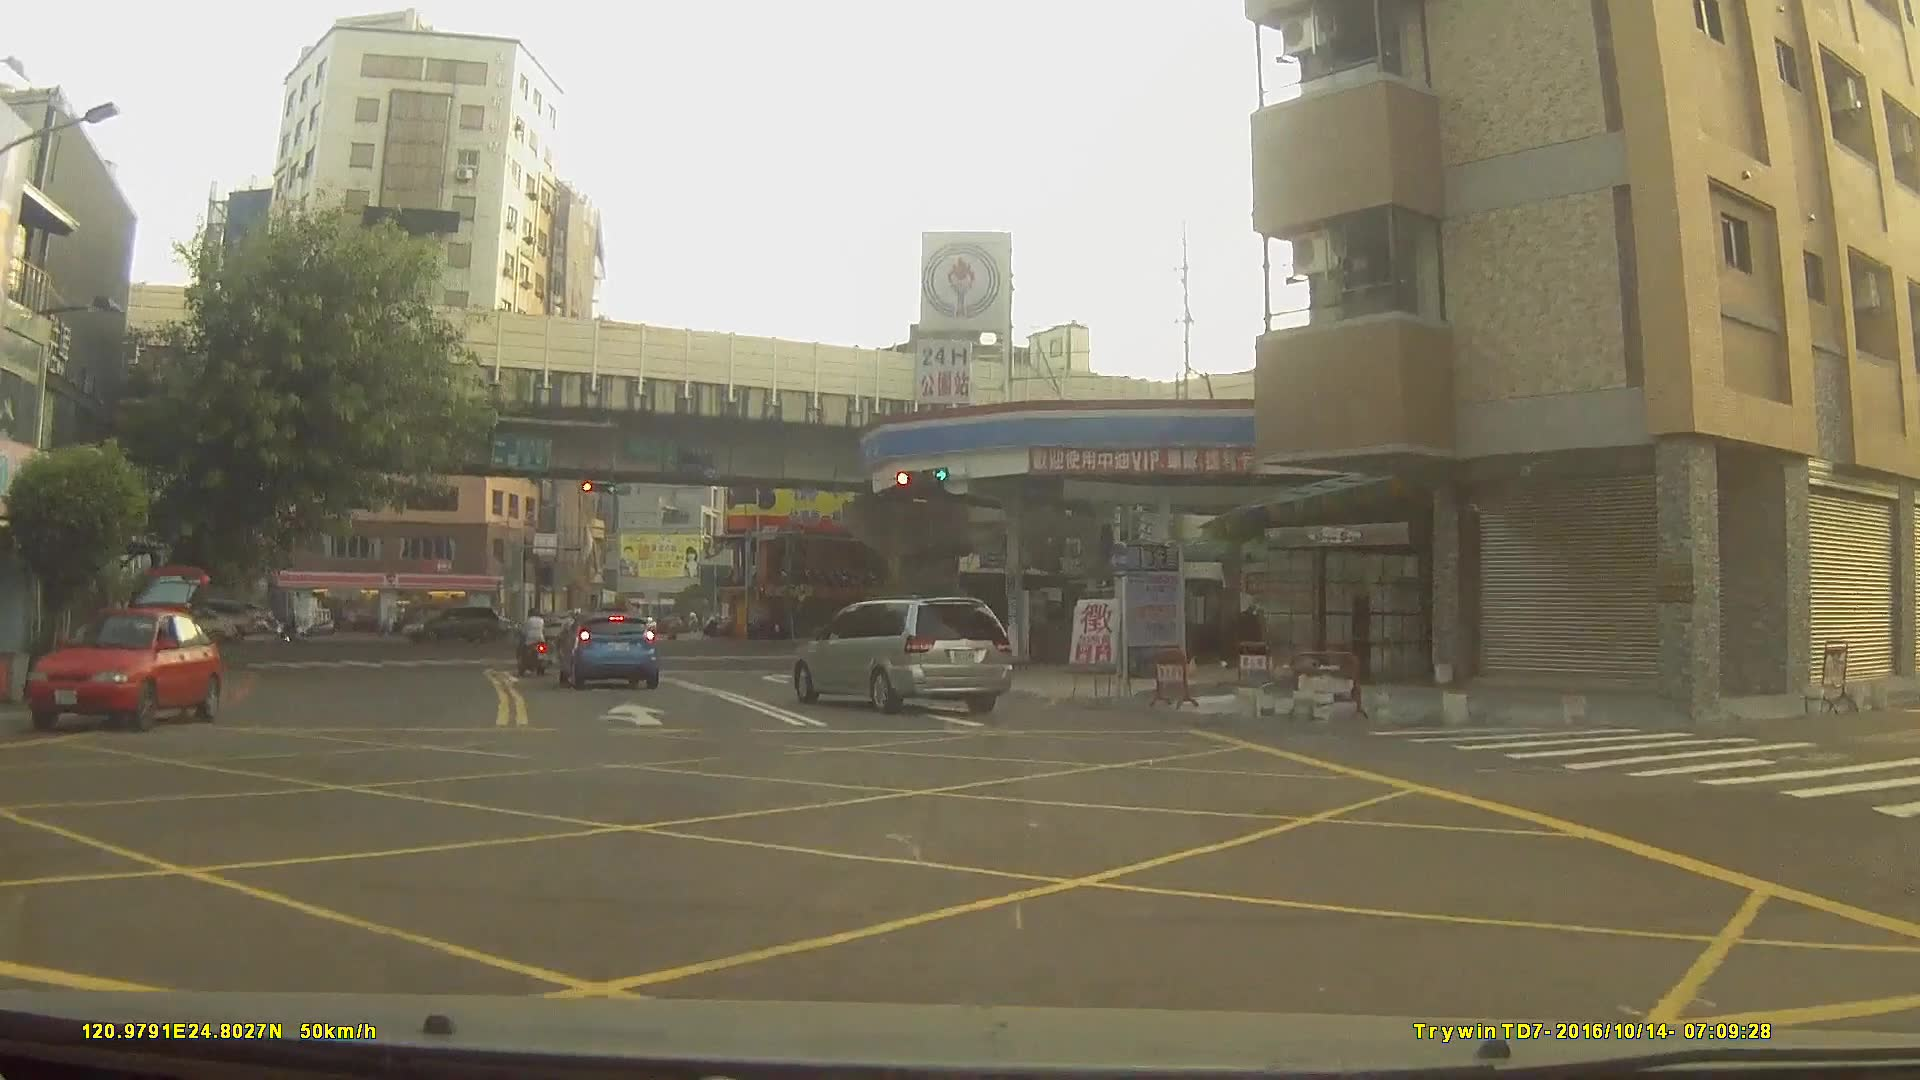rider: (516, 607, 552, 675), (275, 615, 304, 650)
vehicle: (796, 594, 1014, 713), (22, 606, 223, 733), (554, 615, 658, 694), (401, 606, 503, 645), (534, 604, 613, 641)
